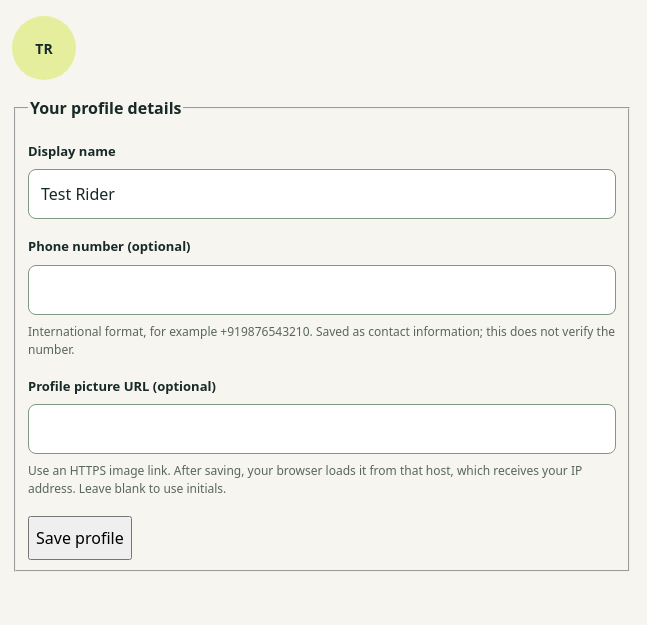
profile save sends only editable fields and updates the shared account
Replace the text in the field labelled "Display name" with "Updated Rider" at (322, 194), box [28,169,616,219]
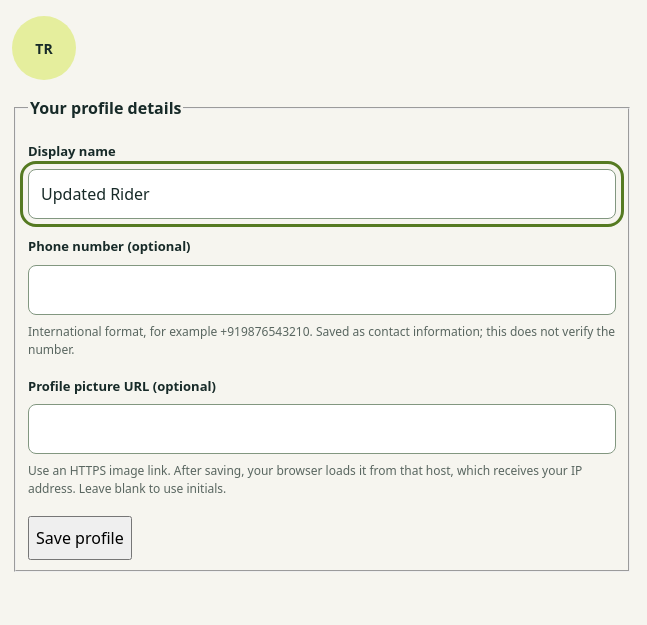
Type "+919876543210" into the field labelled "Phone number (optional)" at (322, 290), box [28,265,616,315]
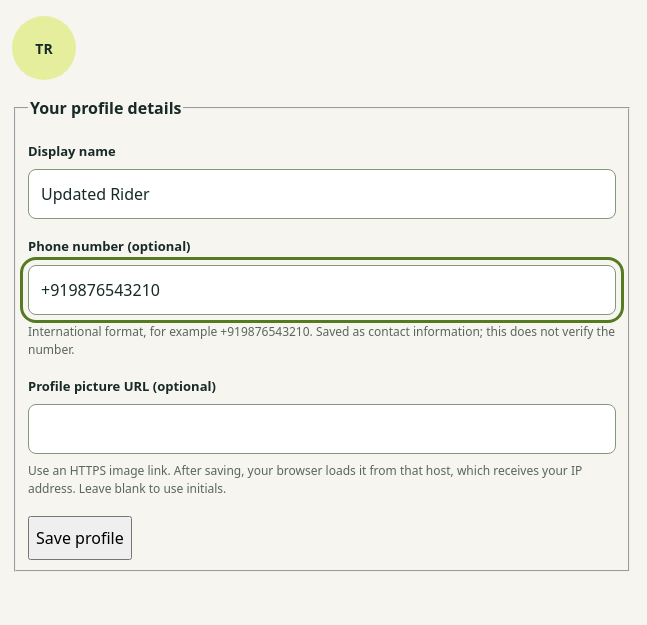
Click the button "Save profile" at (80, 538), box [28,516,132,560]
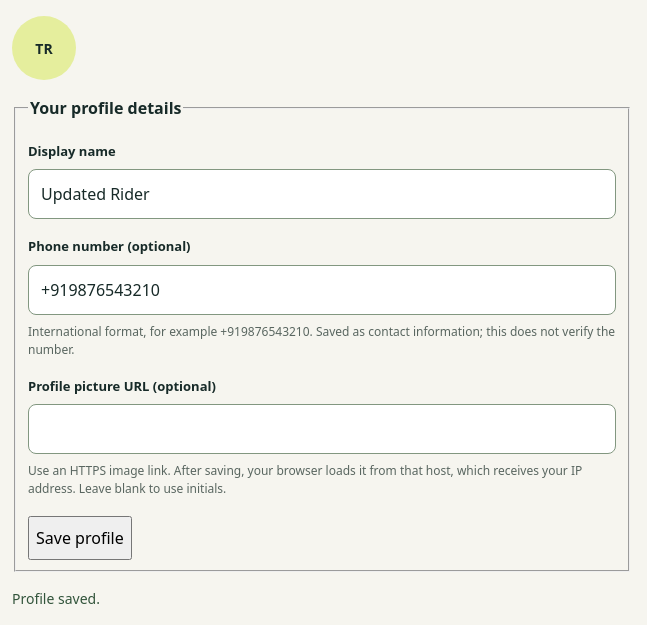
Now the text "Profile saved." is shown, box [12,589,100,608]
